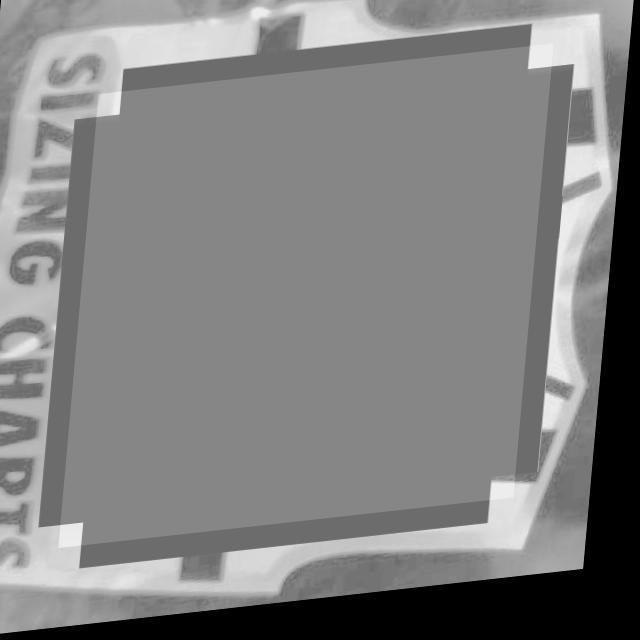qr_code: (68, 57, 555, 551)
